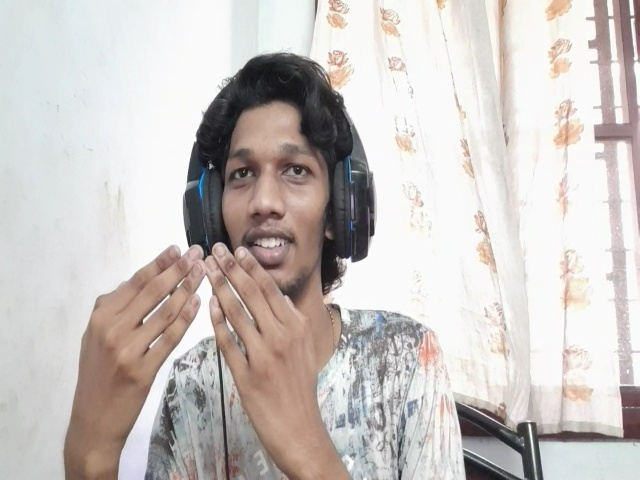ThankYou: (71, 242, 320, 401)
